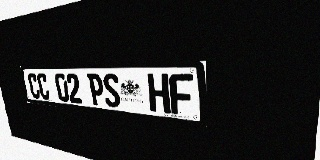0: (54, 73, 70, 102)
2: (65, 73, 82, 104)
C: (36, 73, 51, 100), (27, 73, 41, 99)
F: (169, 74, 194, 116)
H: (147, 74, 171, 113)
P: (87, 73, 106, 106)
S: (102, 73, 121, 108)
